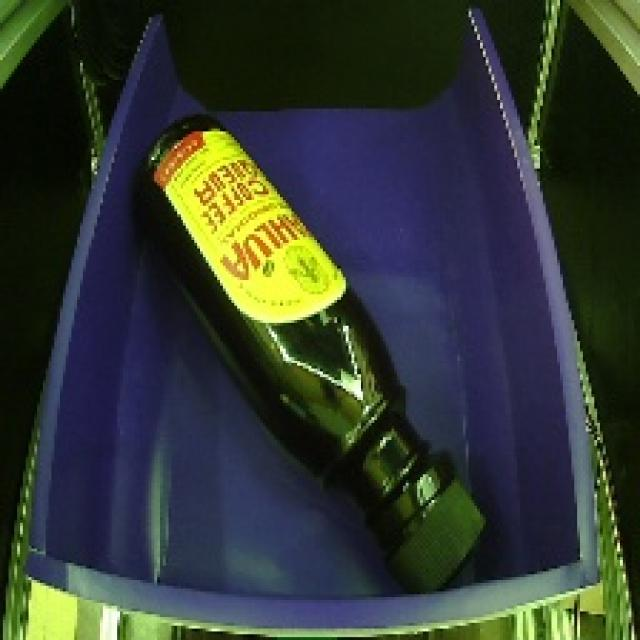plastic: (121, 102, 499, 612)
